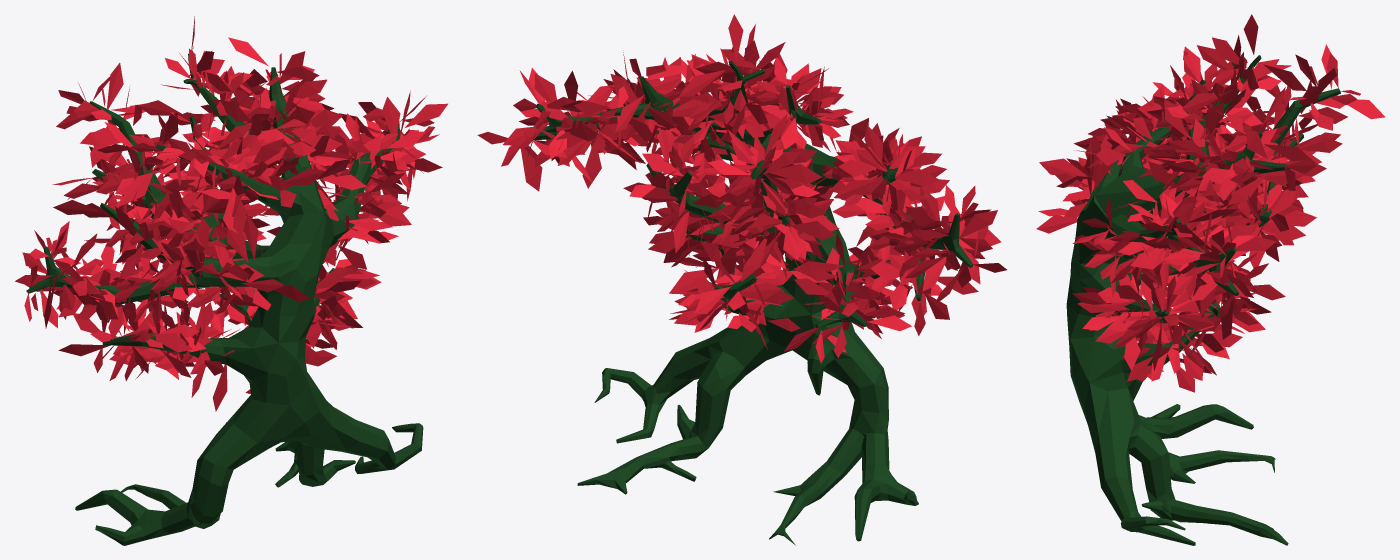
3 views of the same model, side by side, from view 1: azimuth 30°, elevation 25°; view 2: azimuth 150°, elevation 25°; view 3: azimuth 270°, elevation 25° (orthographic). The views are drawn at different scales.
Visible parts, largest first — view 1: DuzeDrzewo; view 2: DuzeDrzewo; view 3: DuzeDrzewo.
Part boxes in pixels (x1,y1,x2,y2): DuzeDrzewo: (15, 16, 447, 545); DuzeDrzewo: (477, 14, 1006, 545); DuzeDrzewo: (1036, 14, 1385, 545).
Size of the model in its own units: 4932 by 4947 by 3260.
